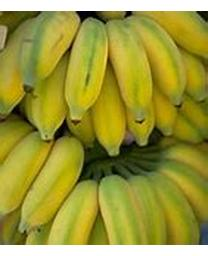banana: (0, 11, 207, 242)
